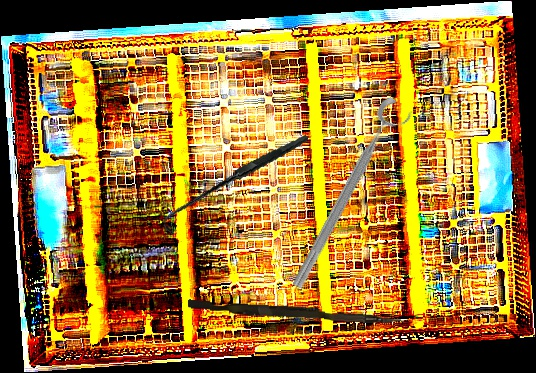Fixation Ring: (286, 94, 417, 298)
Hook Surgical: (162, 113, 309, 256)
Pusher: (187, 299, 405, 325)
